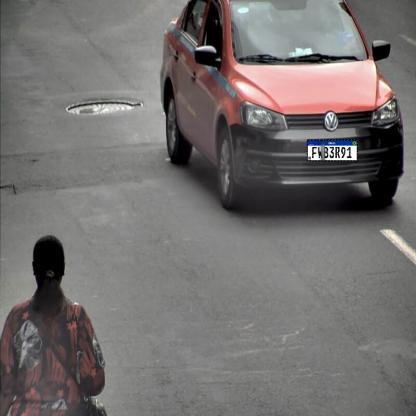PlacaM: (307, 140, 358, 162)
